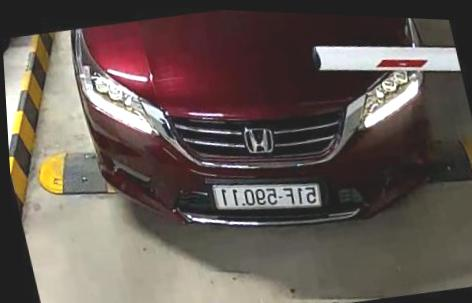License_Plate: (213, 170, 325, 220)
